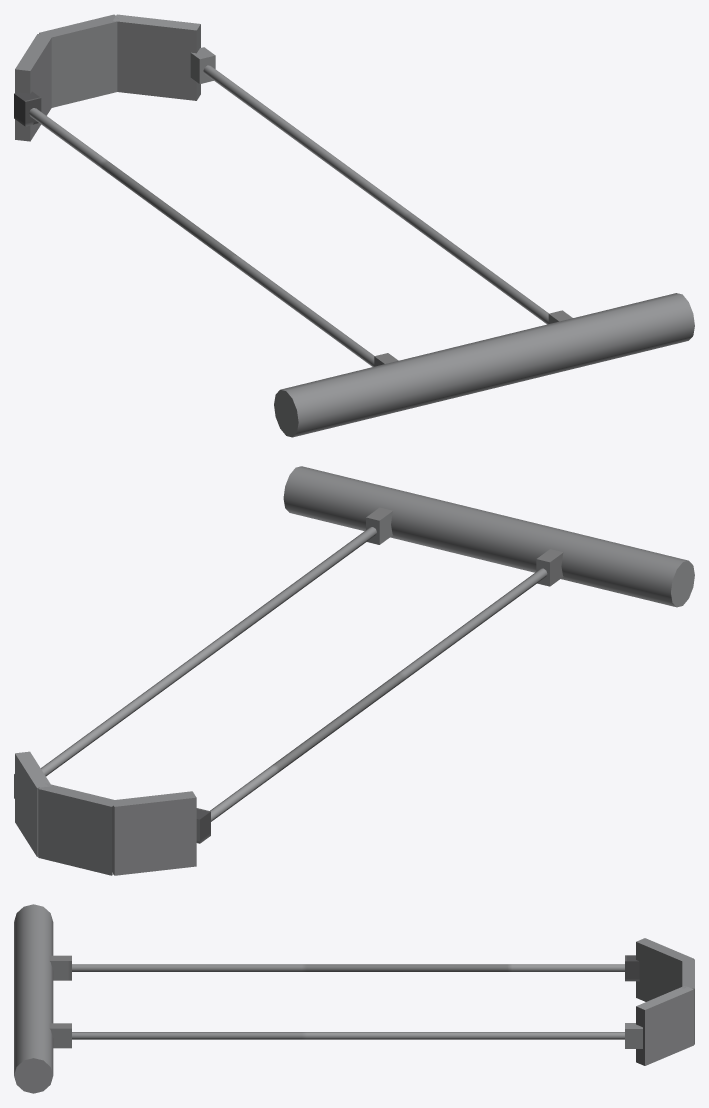
The picture shows the model from 3 angles, top to bottom: view 1: azimuth 30°, elevation 25°; view 2: azimuth 150°, elevation 25°; view 3: azimuth 270°, elevation 25°; orthographic projection. The views are drawn at different scales.
Size of the model in its own units: 1 by 0.17 by 1.87.
